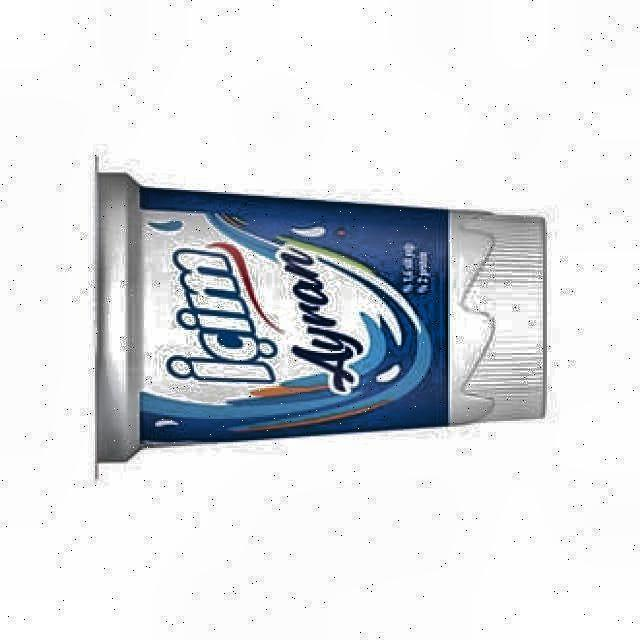plastic: (98, 174, 545, 461)
